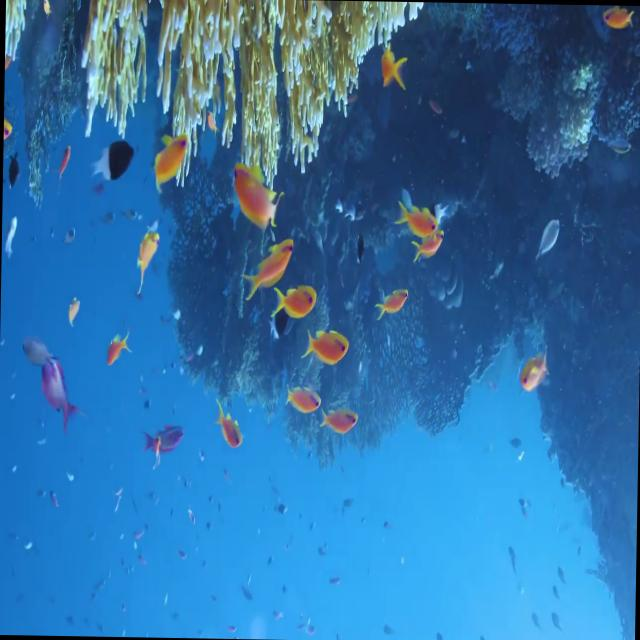fish: (242, 238, 295, 304), (231, 163, 280, 230), (42, 358, 76, 428), (396, 190, 441, 240), (154, 136, 190, 196), (92, 136, 136, 182), (268, 281, 316, 321), (300, 330, 350, 362), (315, 404, 361, 436), (214, 399, 243, 448), (374, 284, 408, 324), (518, 346, 548, 391), (140, 424, 186, 452), (286, 380, 322, 414), (596, 4, 634, 32), (106, 328, 132, 366)
